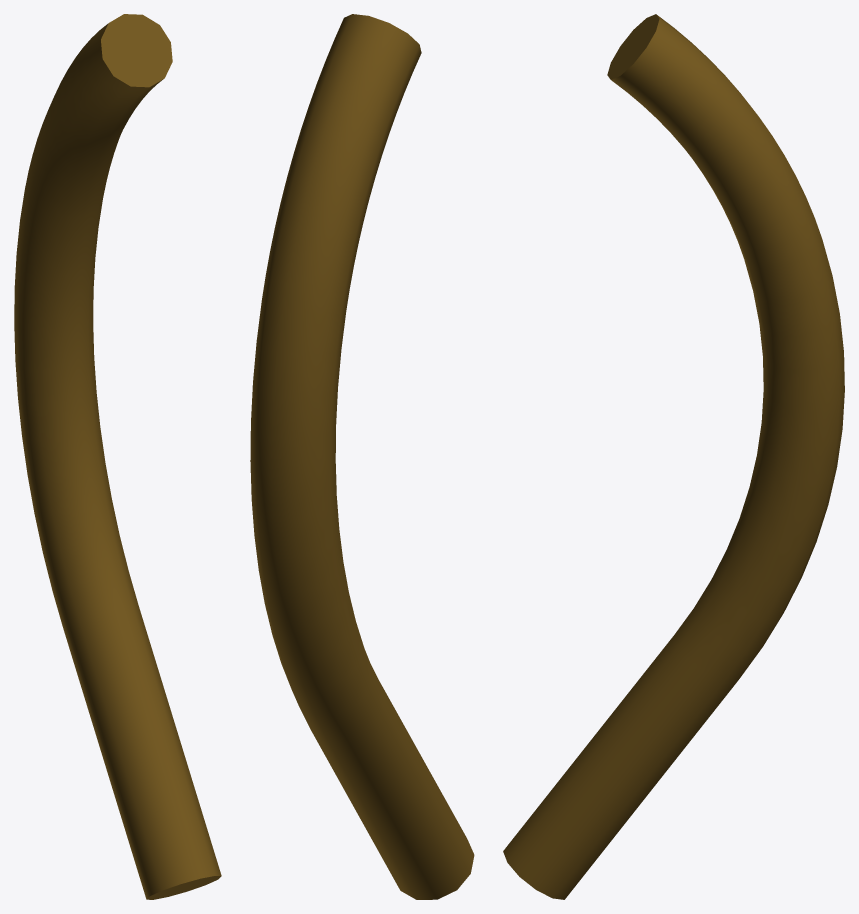
Rendered from original-38.obj.
3 renders of one model, left to right at view 1: azimuth 30°, elevation 25°; view 2: azimuth 150°, elevation 25°; view 3: azimuth 270°, elevation 25°, orthographic. The views are drawn at different scales.
Visible parts, largest first — view 1: OD_30.0mm_ID_0mm1/mesh38/mesh38-geometry#mesh38-geometry; view 2: OD_30.0mm_ID_0mm1/mesh38/mesh38-geometry#mesh38-geometry; view 3: OD_30.0mm_ID_0mm1/mesh38/mesh38-geometry#mesh38-geometry.
Boxes of the visible parts, bbox=[...] form: OD_30.0mm_ID_0mm1/mesh38/mesh38-geometry#mesh38-geometry: bbox=[14, 14, 221, 899]; OD_30.0mm_ID_0mm1/mesh38/mesh38-geometry#mesh38-geometry: bbox=[250, 14, 474, 899]; OD_30.0mm_ID_0mm1/mesh38/mesh38-geometry#mesh38-geometry: bbox=[503, 14, 844, 899].
Bounding box in the file's own units: 0.0531 × 0.6311 × 0.2234.
